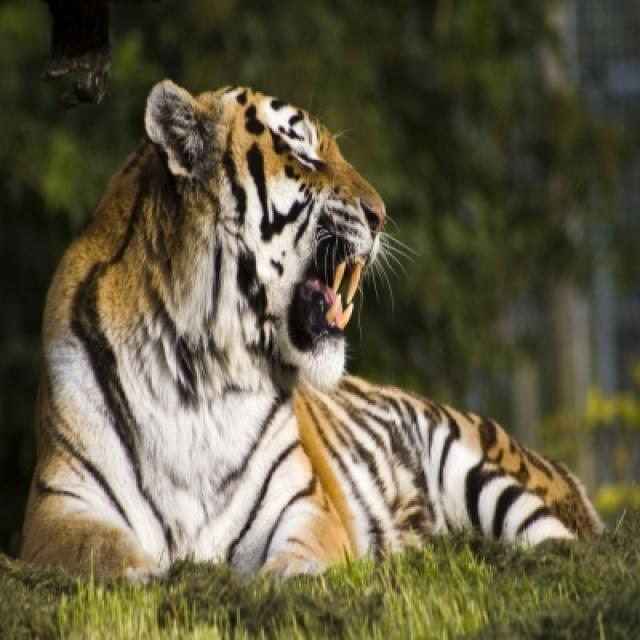Tiger: (16, 88, 608, 577)
